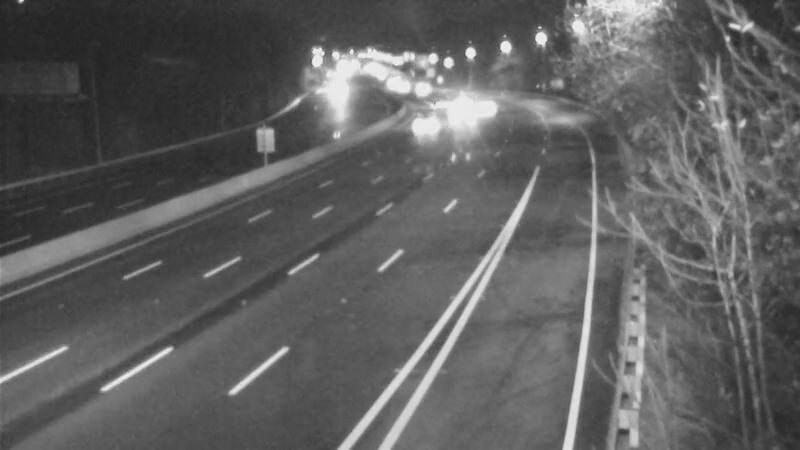vehicle: (462, 76, 512, 126), (437, 88, 487, 138), (405, 98, 455, 148)
